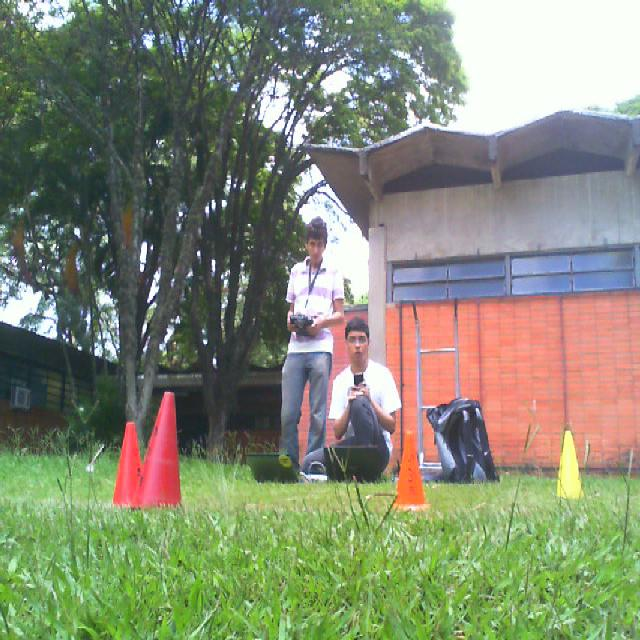cone: (142, 392, 182, 507), (392, 432, 429, 512), (114, 421, 142, 507), (556, 432, 584, 499)
